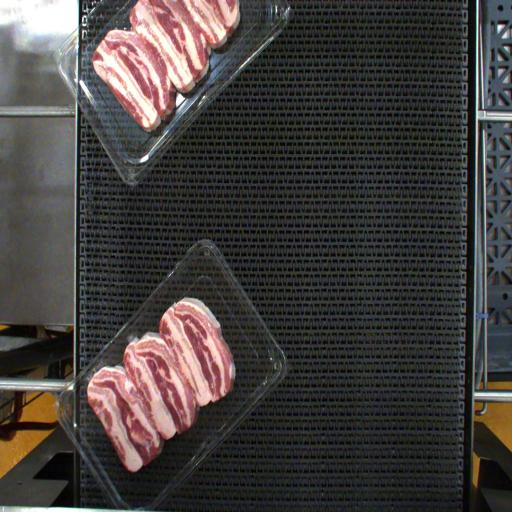packaging-error: (81, 348, 104, 386), (110, 323, 140, 349)
